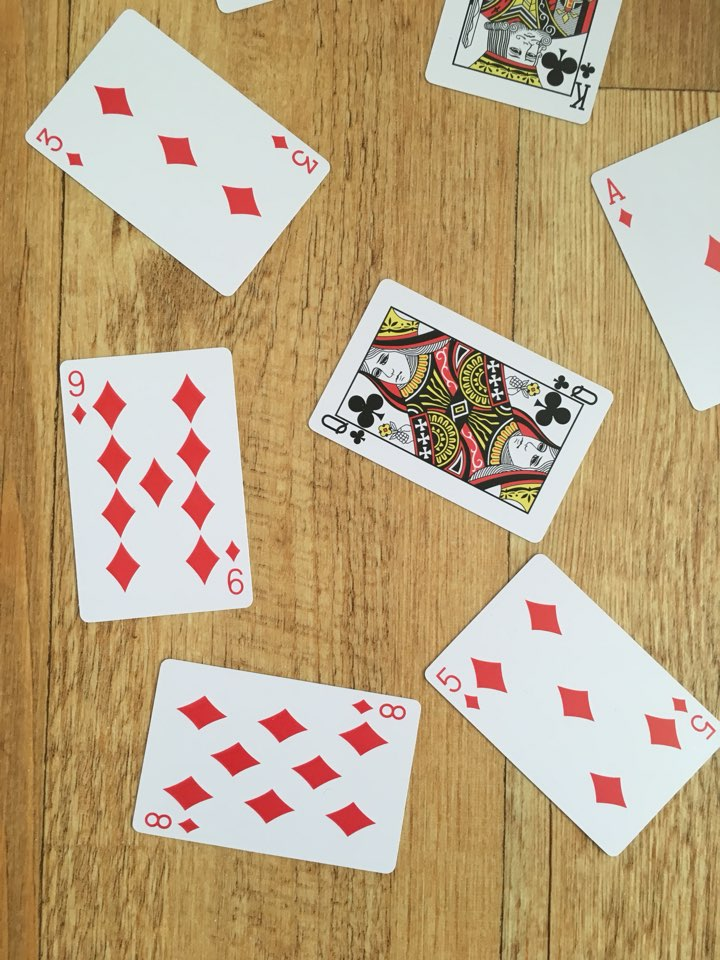ace: (588, 112, 720, 414)
king: (422, 1, 632, 130)
nine: (51, 342, 268, 625)
queen: (303, 275, 622, 549)
